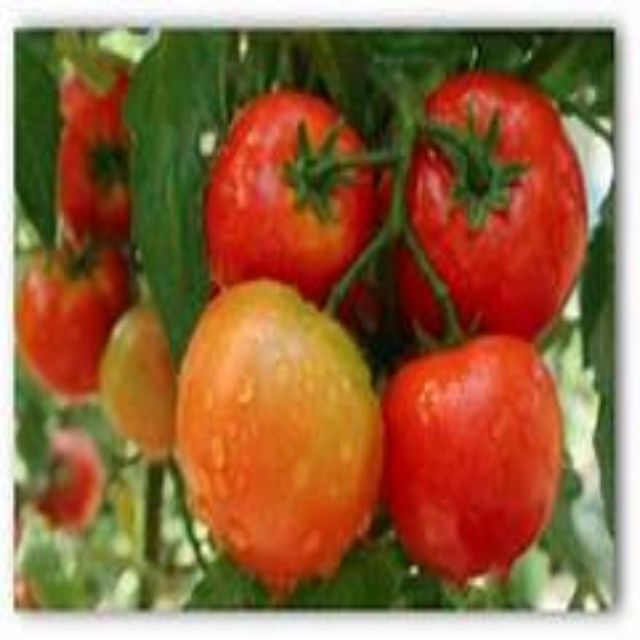tomato: (180, 284, 386, 605), (380, 74, 586, 339), (375, 325, 564, 586), (203, 97, 370, 325), (39, 53, 153, 250), (18, 241, 132, 402), (95, 307, 192, 465)
